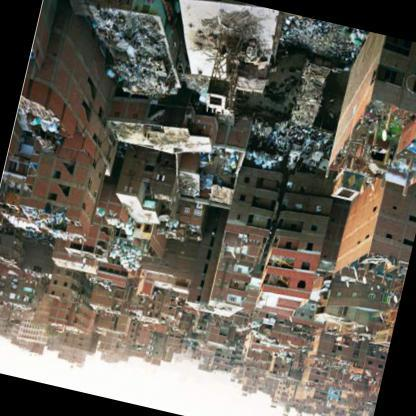Garbage: (286, 14, 355, 47), (100, 12, 157, 50), (214, 145, 246, 173), (116, 241, 143, 272), (250, 150, 288, 172), (25, 112, 62, 134)
